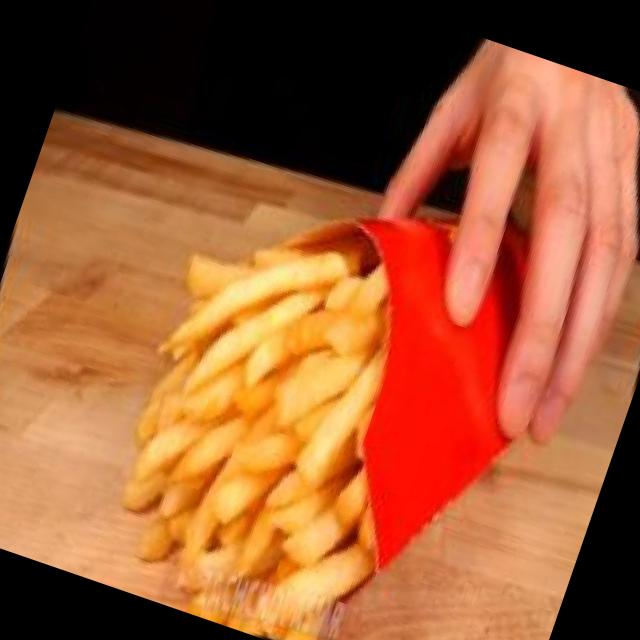french fries: (33, 96, 531, 640)
